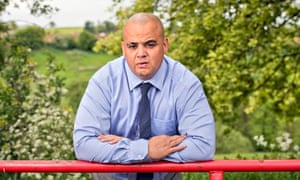stroke: (125, 33, 161, 77)
